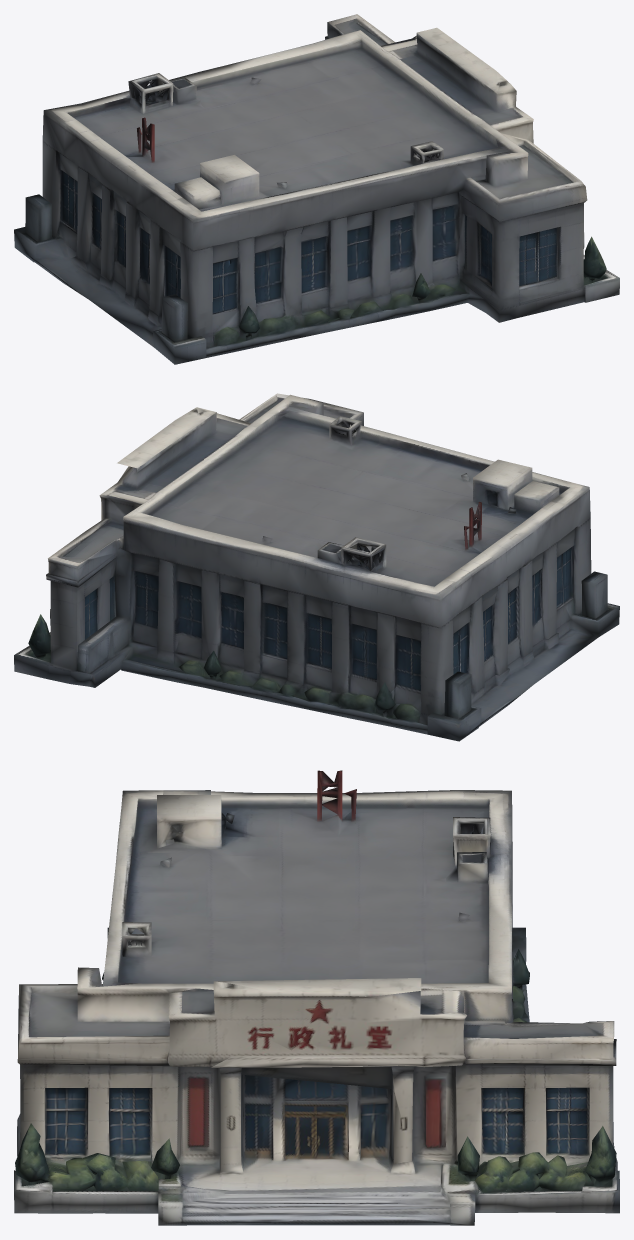
File: hall-facade.glb
3 views of the same model, one above another, from view 1: azimuth 30°, elevation 25°; view 2: azimuth 150°, elevation 25°; view 3: azimuth 270°, elevation 25° (orthographic). The views are drawn at different scales.
Parts seen in each view (by area): view 1: tripo_node_d67090b6-b179-4537-b6f9-53544efe89a4; view 2: tripo_node_d67090b6-b179-4537-b6f9-53544efe89a4; view 3: tripo_node_d67090b6-b179-4537-b6f9-53544efe89a4.
Boxes of the visible parts, x1,y1,x2,y2 form: tripo_node_d67090b6-b179-4537-b6f9-53544efe89a4: [14, 14, 619, 364]; tripo_node_d67090b6-b179-4537-b6f9-53544efe89a4: [14, 393, 619, 741]; tripo_node_d67090b6-b179-4537-b6f9-53544efe89a4: [14, 770, 619, 1225].
Bounding box in the file's own units: 1 × 0.3839 × 0.9424.
Materials: 1 (1 with a texture image).
